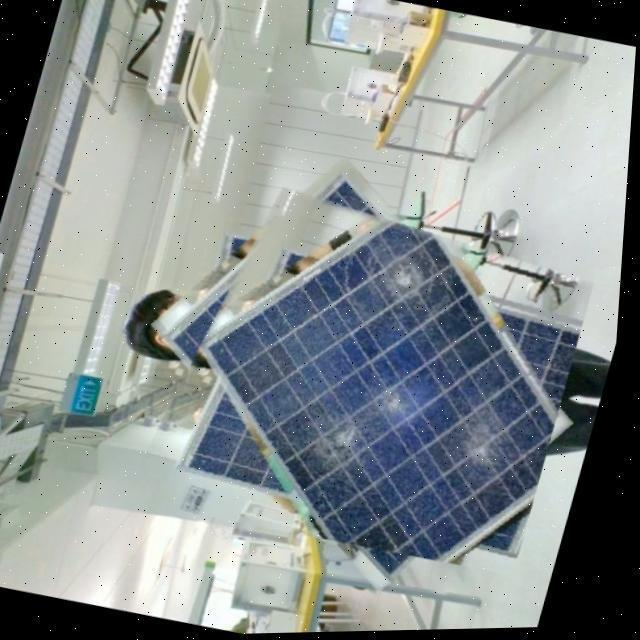Anomaly Solar Panel: (207, 225, 559, 563)
Structural Damage: (303, 362, 428, 489), (340, 226, 455, 345), (427, 382, 530, 505)
